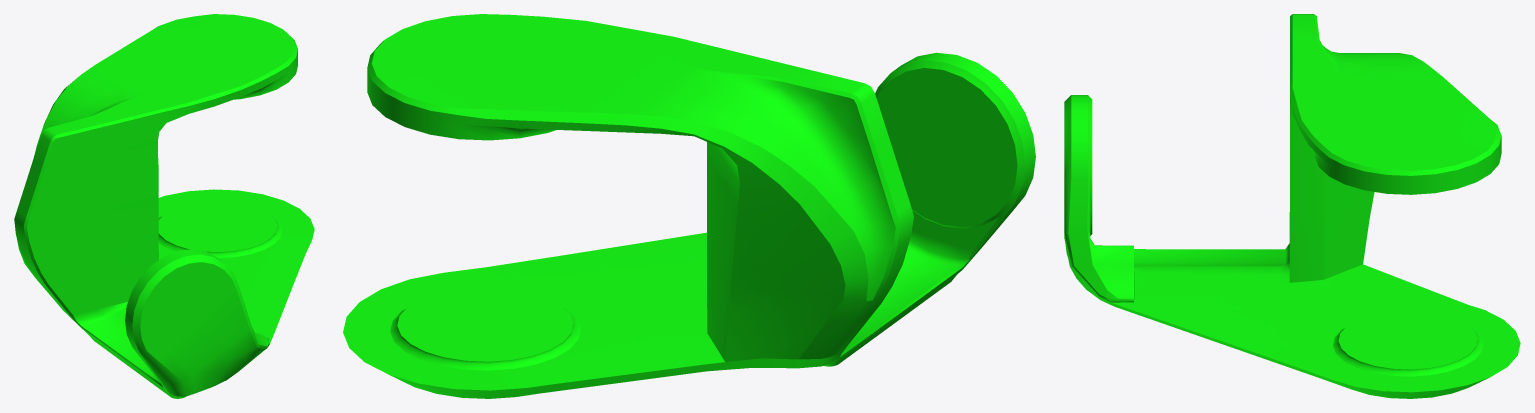
Rendered from RightHipYawLink.obj.
3 renders of one model, left to right at view 1: azimuth 30°, elevation 25°; view 2: azimuth 150°, elevation 25°; view 3: azimuth 270°, elevation 25°, orthographic. The views are drawn at different scales.
Visible parts, largest first — view 1: RightHipYaw_Retopo; view 2: RightHipYaw_Retopo; view 3: RightHipYaw_Retopo.
Part boxes in pixels (x1=…): RightHipYaw_Retopo: x1=14, y1=14, x2=314, y2=398; RightHipYaw_Retopo: x1=343, y1=14, x2=1035, y2=398; RightHipYaw_Retopo: x1=1064, y1=14, x2=1520, y2=398.
Size of the model in its own units: 0.1939 by 0.1173 by 0.2027.
